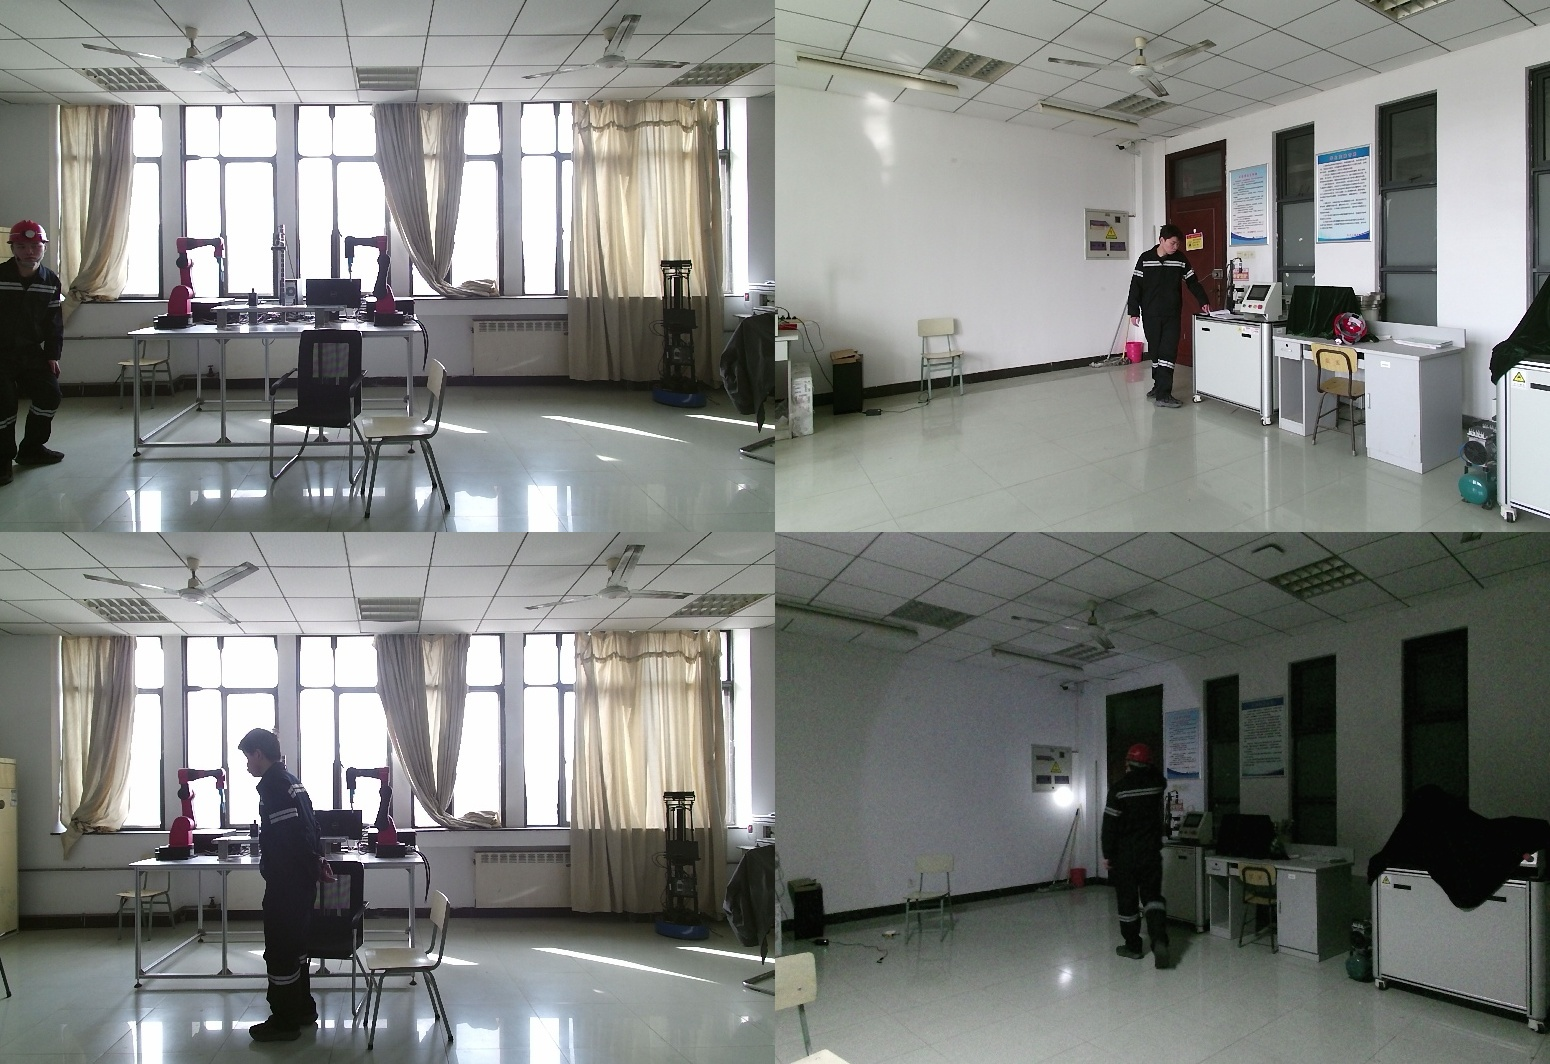person: (238, 728, 336, 1039), (2, 224, 79, 481), (1104, 743, 1184, 971), (1129, 226, 1215, 410)
